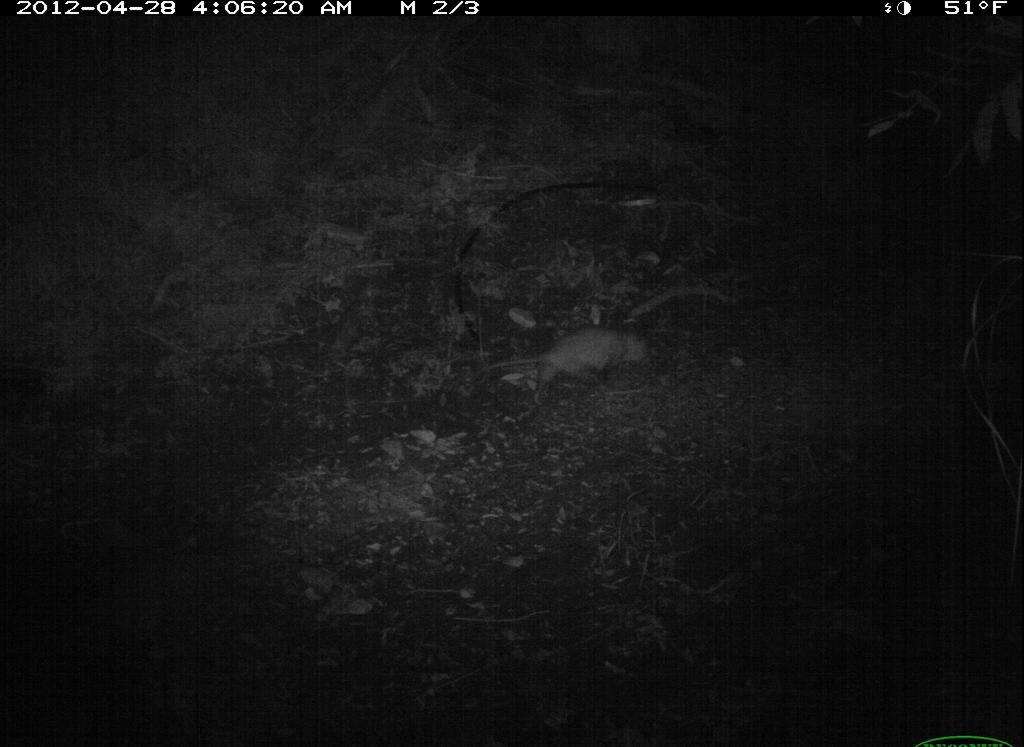opossum: (472, 319, 657, 408)
